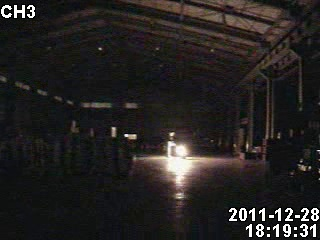fire: (172, 136, 191, 157)
